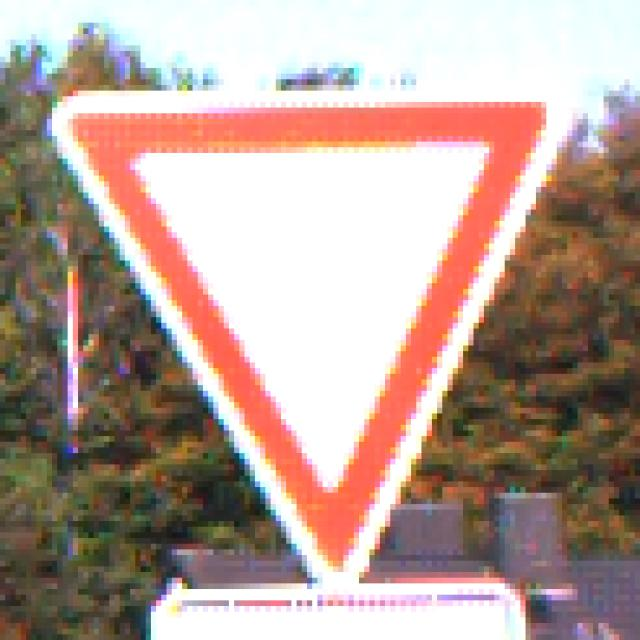Give Way: (53, 58, 584, 584)
